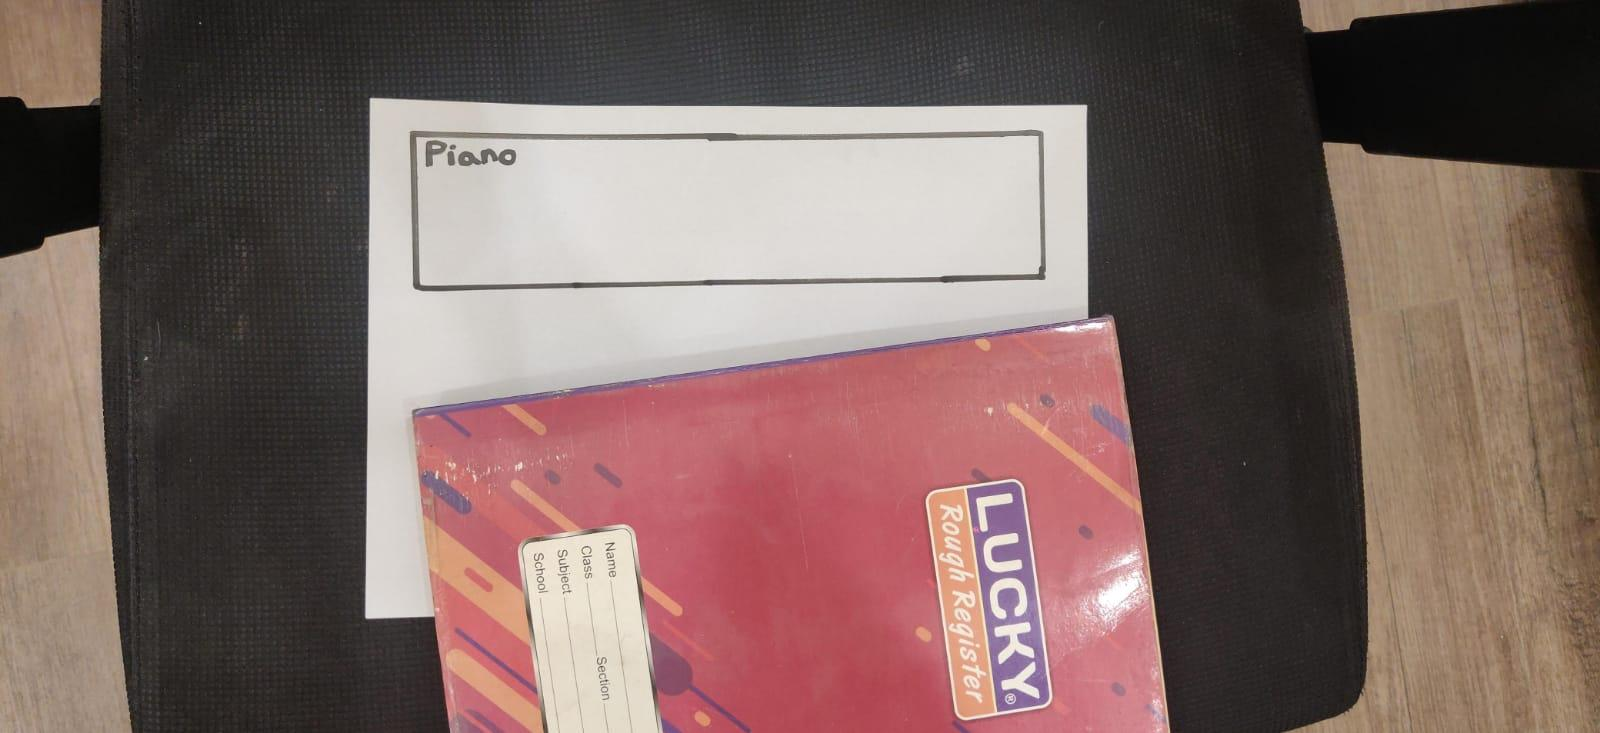paper-piano: (417, 132, 1045, 278)
